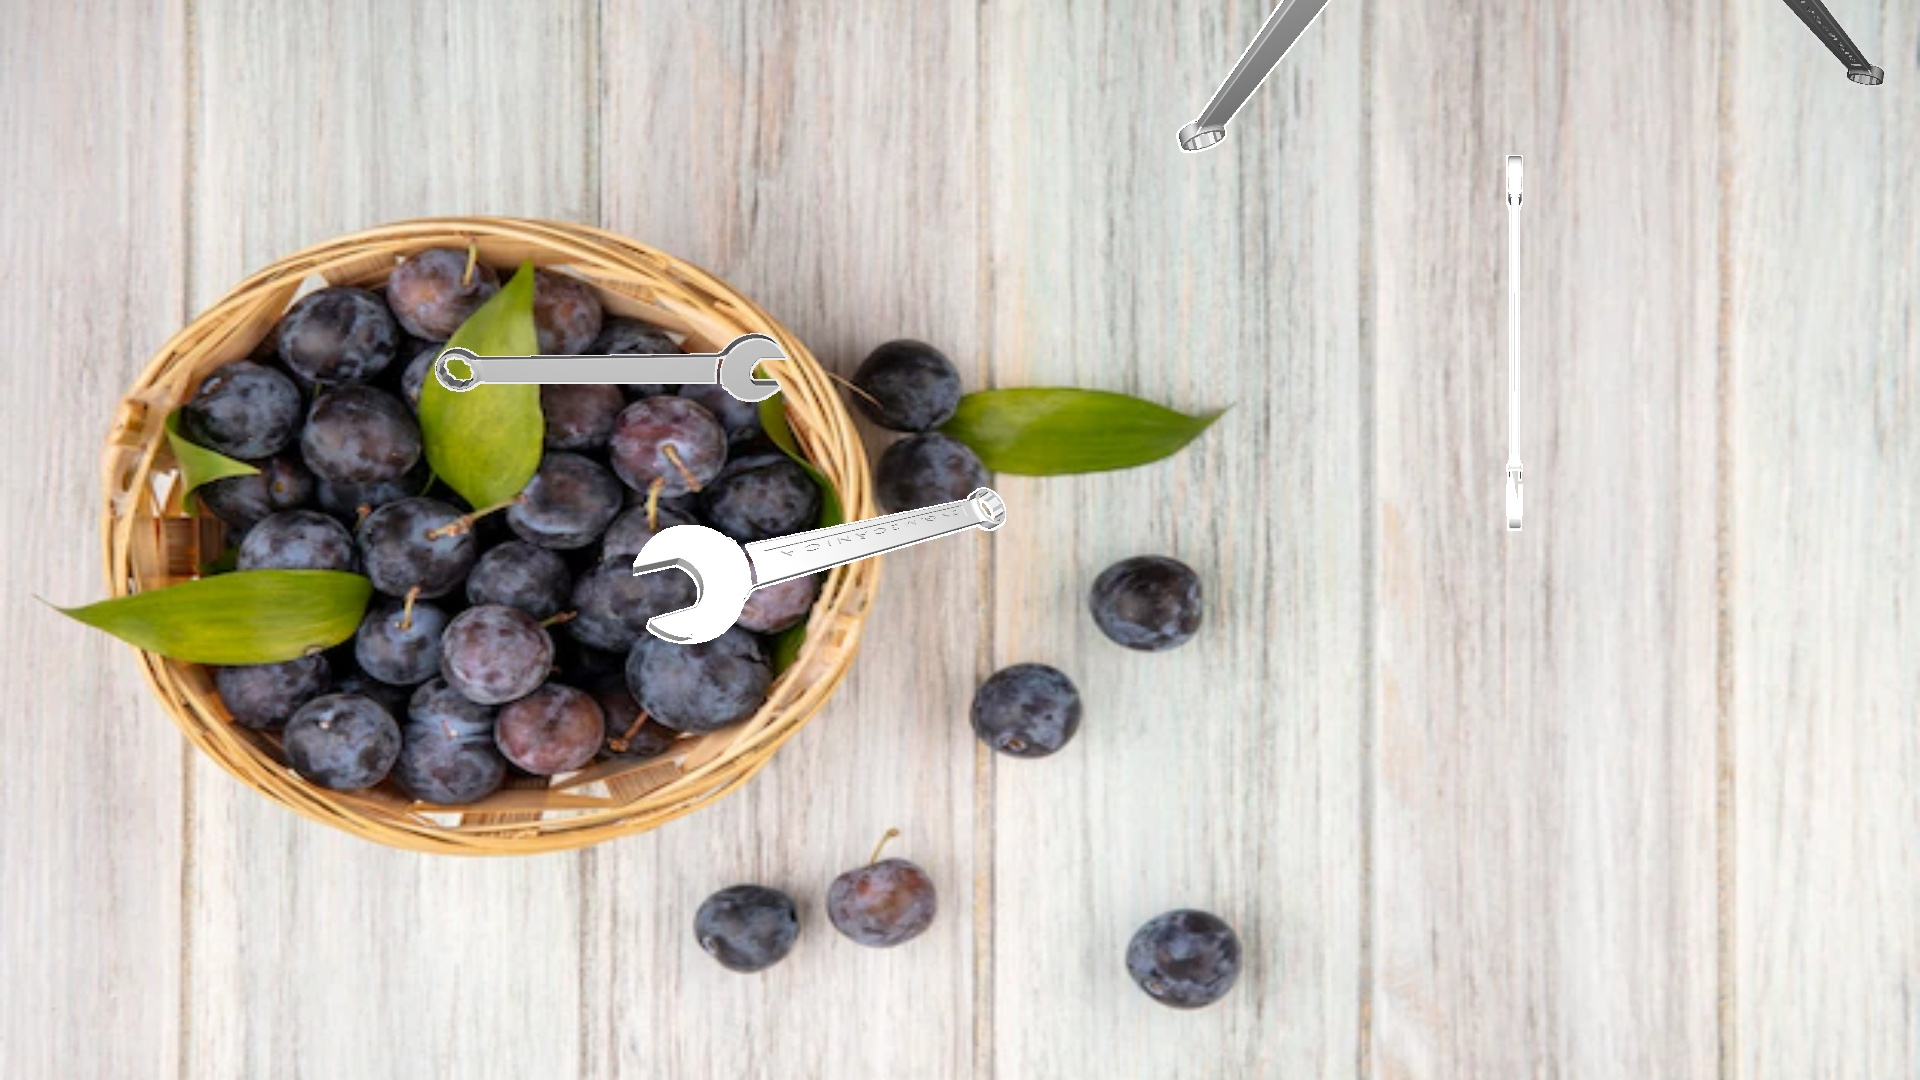Mixed Key: (633, 487, 1005, 644), (435, 334, 787, 401), (1176, 0, 1331, 152), (1778, 0, 1884, 86), (1506, 156, 1522, 530)
